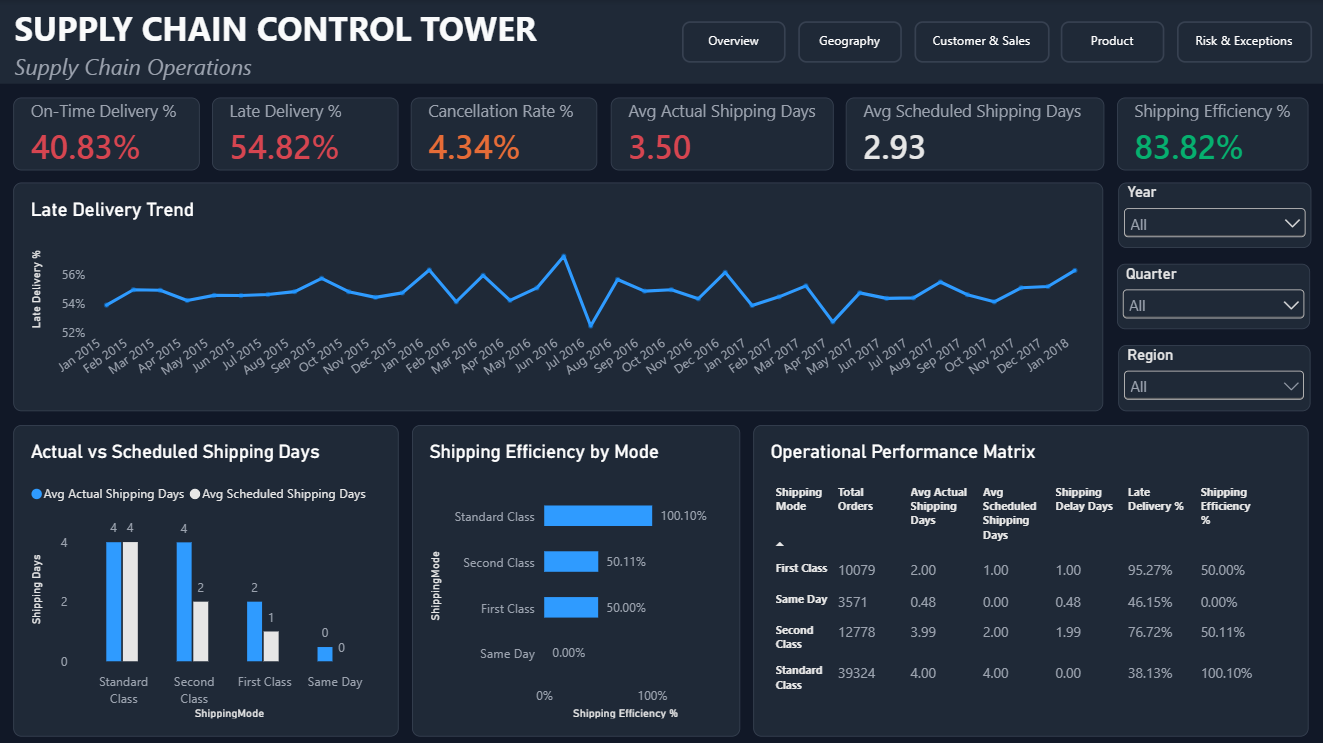

The page's visual inventory and layout, read from the dashboard file:
{"tool":"powerbi","page":{"name":"Supply Chain Operations","canvas":[1280,720],"ordinal":1},"visuals":[{"type":"shape","box":[0,0,1920.7,80.8],"z":0},{"type":"textbox","box":[16.9,49.5,599.6,31.4],"z":1000},{"type":"textbox","box":[16.9,4.8,600,45],"z":2000},{"type":"group","id":"g1","title":"Group 1","box":[16.3,93.7,1249.8,70.2],"z":3000},{"type":"cardVisual","fields":{"Data":["Dax_Measures.Average Scheduled Shipping Days"]},"box":[819.7,93.7,249.3,70.2],"z":3000,"group":"g1"},{"type":"cardVisual","fields":{"Data":["Dax_Measures.Avg Actual Shipping Days"]},"box":[592.6,93.7,215,70.2],"z":4000,"group":"g1"},{"type":"clusteredColumnChart","title":"Actual vs Scheduled Shipping Days","fields":{"Category":["Dim_Shipping.ShippingMode"],"Y":["Dax_Measures.Avg Actual Shipping Days","Dax_Measures.Avg Scheduled Shipping Days"]},"box":[16.3,409.6,372.1,300.6],"z":4000},{"type":"cardVisual","fields":{"Data":["Dax_Measures.Late Delivery %"]},"box":[208.4,93.7,180,70],"z":5000,"group":"g1"},{"type":"clusteredBarChart","title":"Shipping Efficiency by Mode","fields":{"Y":["Dax_Measures.Shipping Efficiency %"],"Category":["Dim_Shipping.ShippingMode"]},"box":[400.9,409.6,316.9,300.6],"z":5000},{"type":"cardVisual","fields":{"Data":["Dax_Measures.Shipping Efficiency %"]},"box":[1081.1,93.7,185,70],"z":6000,"group":"g1"},{"type":"lineChart","title":"Late Delivery Trend","fields":{"Category":["Dim_Date.Month Year"],"Y":["Dax_Measures.Late Delivery %"]},"box":[16.3,176.6,1052.3,220.5],"z":6000},{"type":"cardVisual","fields":{"Data":["Dax_Measures.Cancellation Rate %"]},"box":[400.5,93.7,180,70],"z":7000,"group":"g1"},{"type":"pivotTable","title":"Operational Performance Matrix","fields":{"Rows":["Dim_Shipping.ShippingMode"],"Values":["Dax_Measures.Total Orders","Dax_Measures.Avg Actual Shipping Days","Dax_Measures.Avg Scheduled Shipping Days","Dax_Measures.Shipping Delay Days","Dax_Measures.Late Delivery %","Dax_Measures.Shipping Efficiency %"]},"box":[730.3,409.6,536.2,300.6],"z":7000},{"type":"cardVisual","fields":{"Data":["Dax_Measures.On-Time Delivery %"]},"box":[16.3,93.7,180,70],"z":8000,"group":"g1"},{"type":"slicer","fields":{"Values":["Dim_Date.Year"]},"box":[1081.7,176.6,186.7,63],"z":8000},{"type":"slicer","fields":{"Values":["Dim_Date.Quarter"]},"box":[1081.1,254.9,186.7,63],"z":9000},{"type":"slicer","fields":{"Values":["Dim_Geography.OrderRegion"]},"box":[1082.3,333.2,185.4,63.9],"z":10000},{"type":"actionButton","box":[661.1,20.5,100.1,39.8],"z":10001},{"type":"actionButton","box":[773.2,20.5,100,40],"z":10003},{"type":"actionButton","box":[885.1,20.5,130,40],"z":10004},{"type":"actionButton","box":[1027,20.5,100,40],"z":10005},{"type":"actionButton","box":[1138.9,20.5,130,40],"z":10006}]}

Visuals, with their boxes in screenshot pixels (x1, y1, x2, y2), scaled from the page's 1280x720 canvas onto the 1323x743 screenshot:
shape: [left=0, top=0, right=1322, bottom=83]
textbox: [left=17, top=51, right=637, bottom=83]
textbox: [left=17, top=5, right=638, bottom=51]
"Group 1" group: [left=17, top=97, right=1309, bottom=169]
cardVisual - Dax_Measures.Average Scheduled Shipping Days: [left=847, top=97, right=1105, bottom=169]
cardVisual - Dax_Measures.Avg Actual Shipping Days: [left=613, top=97, right=835, bottom=169]
"Actual vs Scheduled Shipping Days" clusteredColumnChart: [left=17, top=423, right=401, bottom=733]
cardVisual - Dax_Measures.Late Delivery %: [left=215, top=97, right=401, bottom=169]
"Shipping Efficiency by Mode" clusteredBarChart: [left=414, top=423, right=742, bottom=733]
cardVisual - Dax_Measures.Shipping Efficiency %: [left=1117, top=97, right=1309, bottom=169]
"Late Delivery Trend" lineChart: [left=17, top=182, right=1104, bottom=410]
cardVisual - Dax_Measures.Cancellation Rate %: [left=414, top=97, right=600, bottom=169]
"Operational Performance Matrix" pivotTable: [left=755, top=423, right=1309, bottom=733]
cardVisual - Dax_Measures.On-Time Delivery %: [left=17, top=97, right=203, bottom=169]
slicer - Dim_Date.Year: [left=1118, top=182, right=1311, bottom=247]
slicer - Dim_Date.Quarter: [left=1117, top=263, right=1310, bottom=328]
slicer - Dim_Geography.OrderRegion: [left=1119, top=344, right=1310, bottom=410]
actionButton: [left=683, top=21, right=787, bottom=62]
actionButton: [left=799, top=21, right=903, bottom=62]
actionButton: [left=915, top=21, right=1049, bottom=62]
actionButton: [left=1062, top=21, right=1165, bottom=62]
actionButton: [left=1177, top=21, right=1312, bottom=62]
